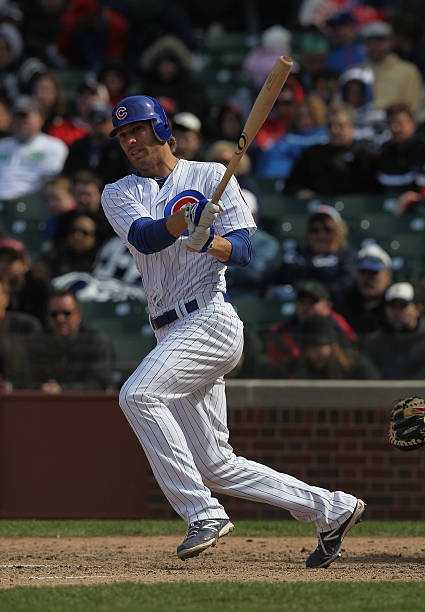bita: (213, 64, 287, 198)
